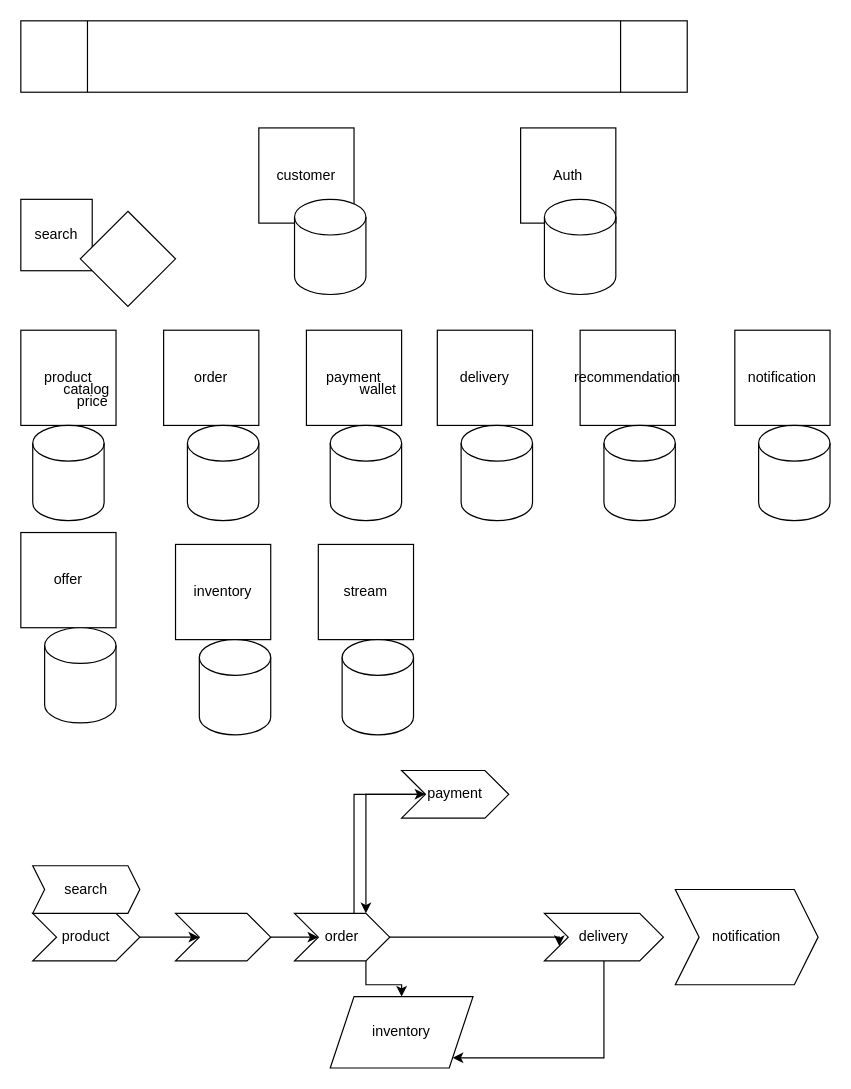
The diagram is 851 pixels wide and 1089 high, and some of its shapes have lost their labels. The shapes that lost their labels are listed below. From the top down, each one's centre as x and y in pixels, then its label:
At [353,56]: "Api getway".
At [127,258]: "products category user".
At [222,936]: "cart".
